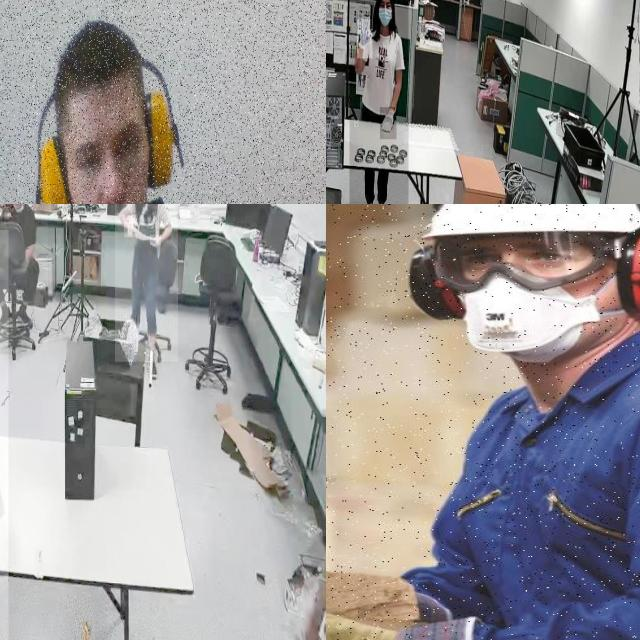Ear-protection: (20, 17, 186, 204), (604, 213, 640, 327)
face_mask: (377, 0, 396, 32)
hand_glove: (357, 20, 373, 58), (380, 107, 397, 140)
hand_noglove: (124, 222, 134, 238), (150, 235, 162, 246)
person: (349, 0, 408, 204), (115, 204, 178, 362), (0, 204, 48, 345)
shoes: (14, 300, 36, 332), (0, 296, 13, 329)
